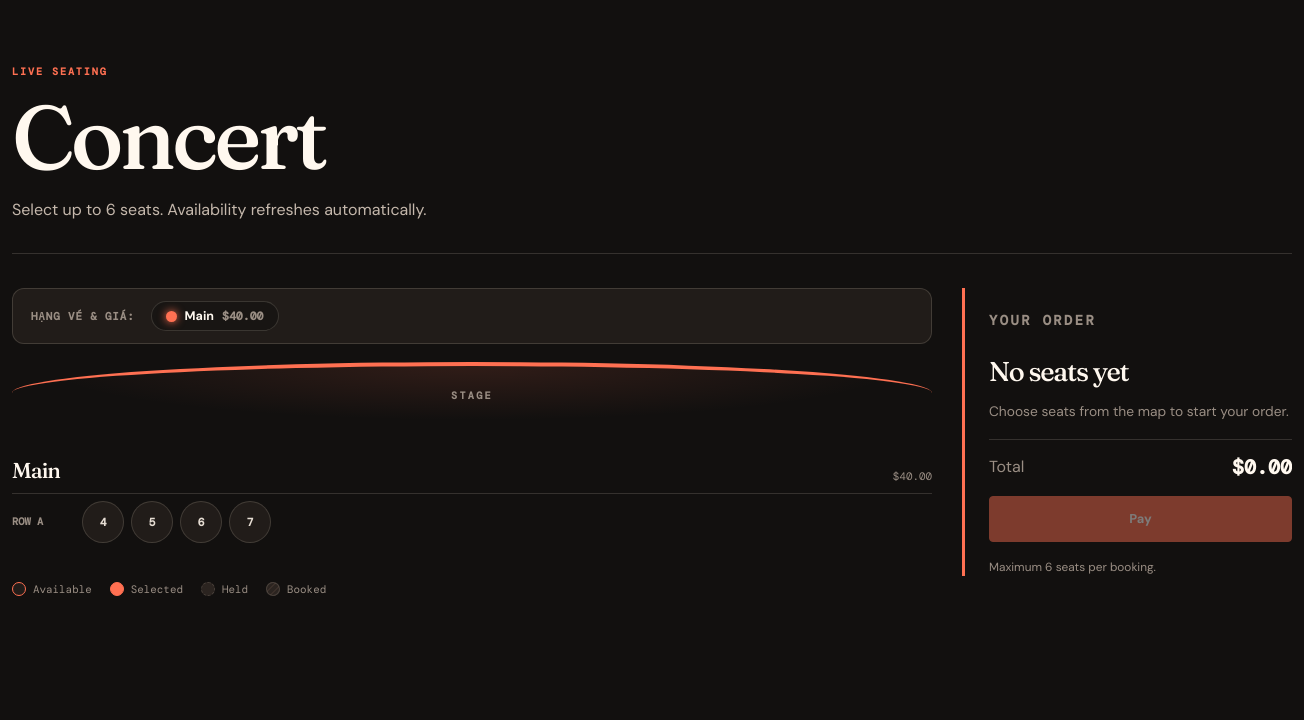
Test: SeatPage › removes only overlapping seats and keeps the remaining bill
expect the button named "Seat A4" is shown: met, box [82, 501, 124, 543]
Click the button named "Seat A5" at x=152, y=522, box [131, 501, 173, 543]
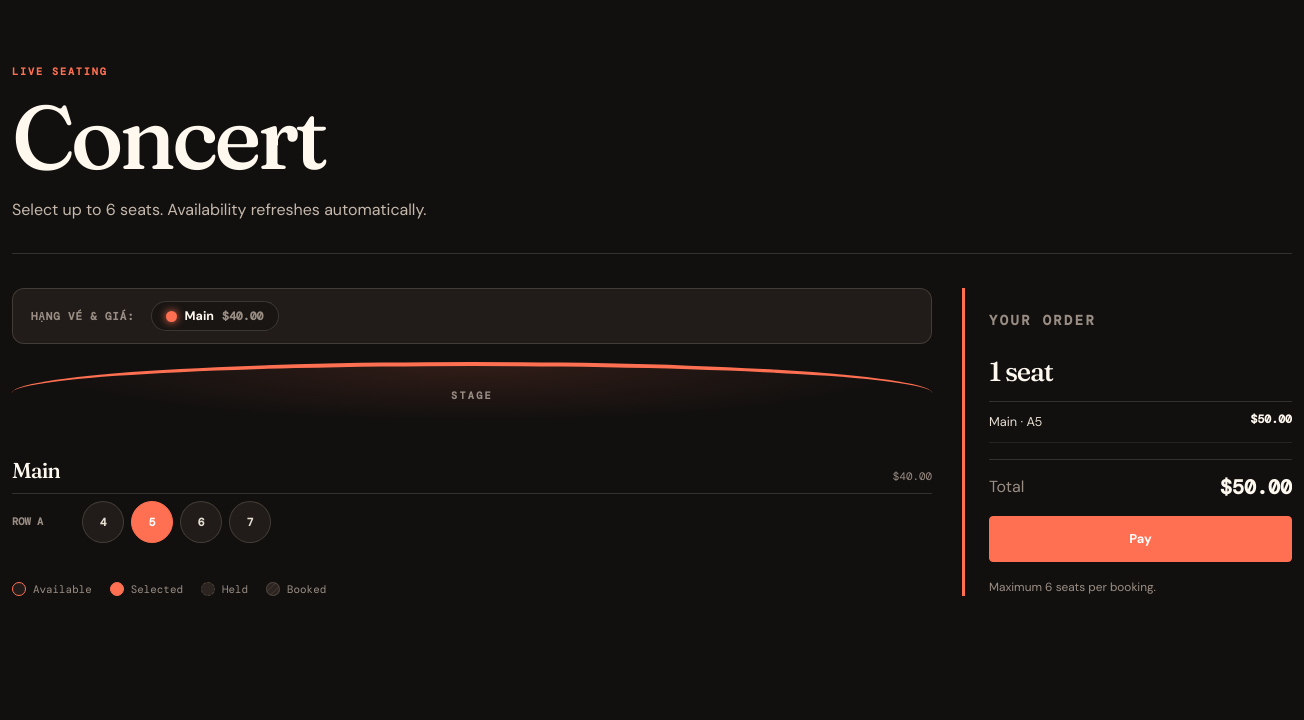
Click the button named "Seat A6" at x=201, y=522, box [180, 501, 222, 543]
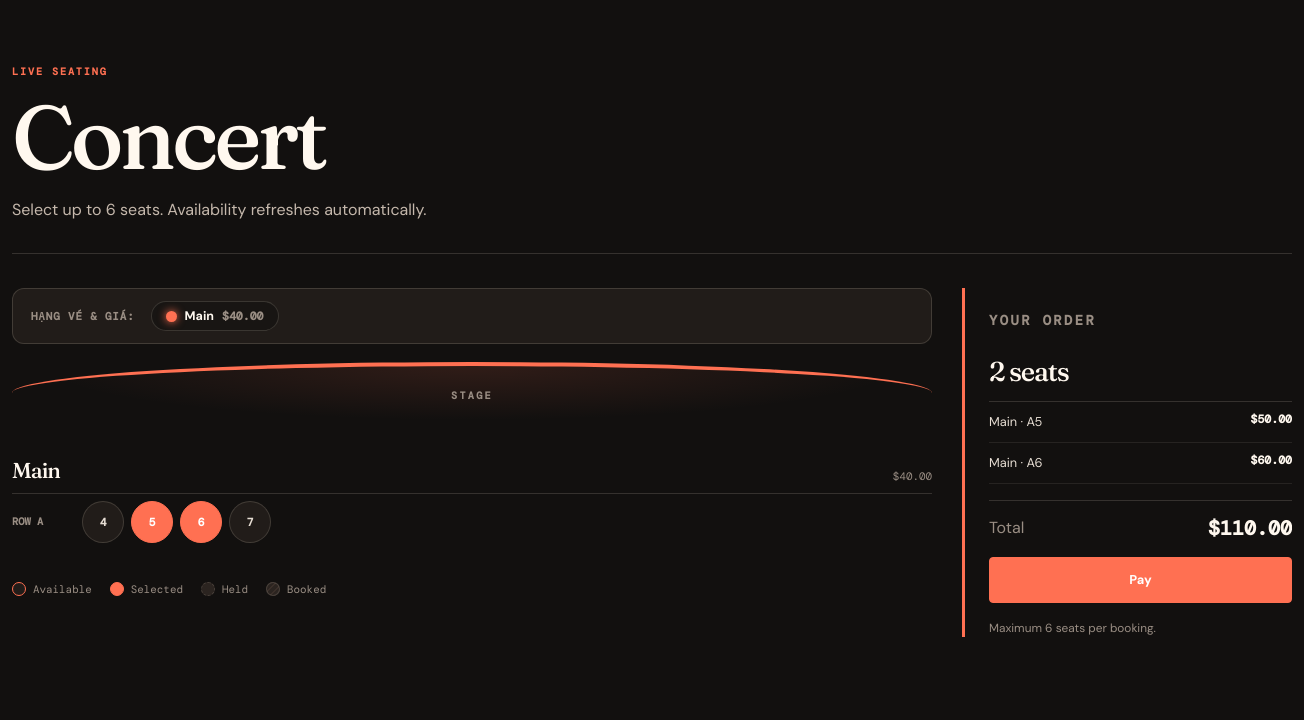
Click the button named "Seat A7" at x=250, y=522, box [229, 501, 271, 543]
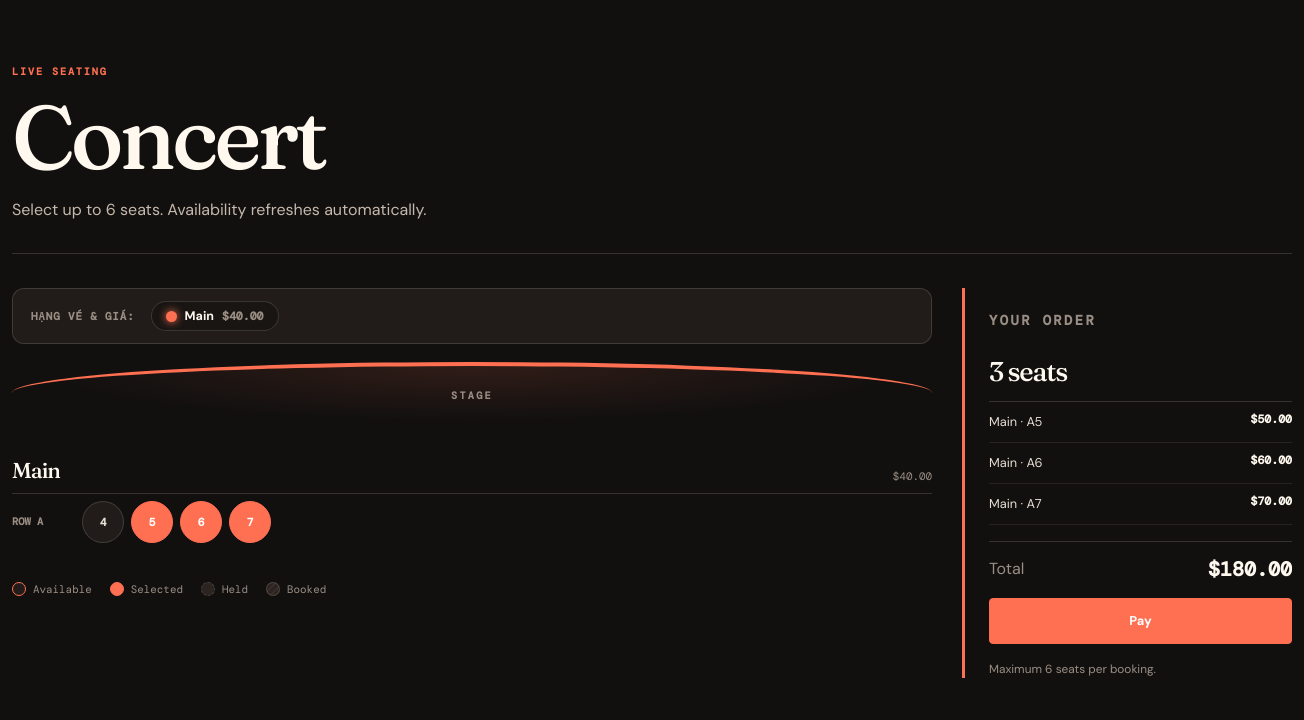
Click the button "Pay" at x=1140, y=621, box [989, 598, 1292, 644]
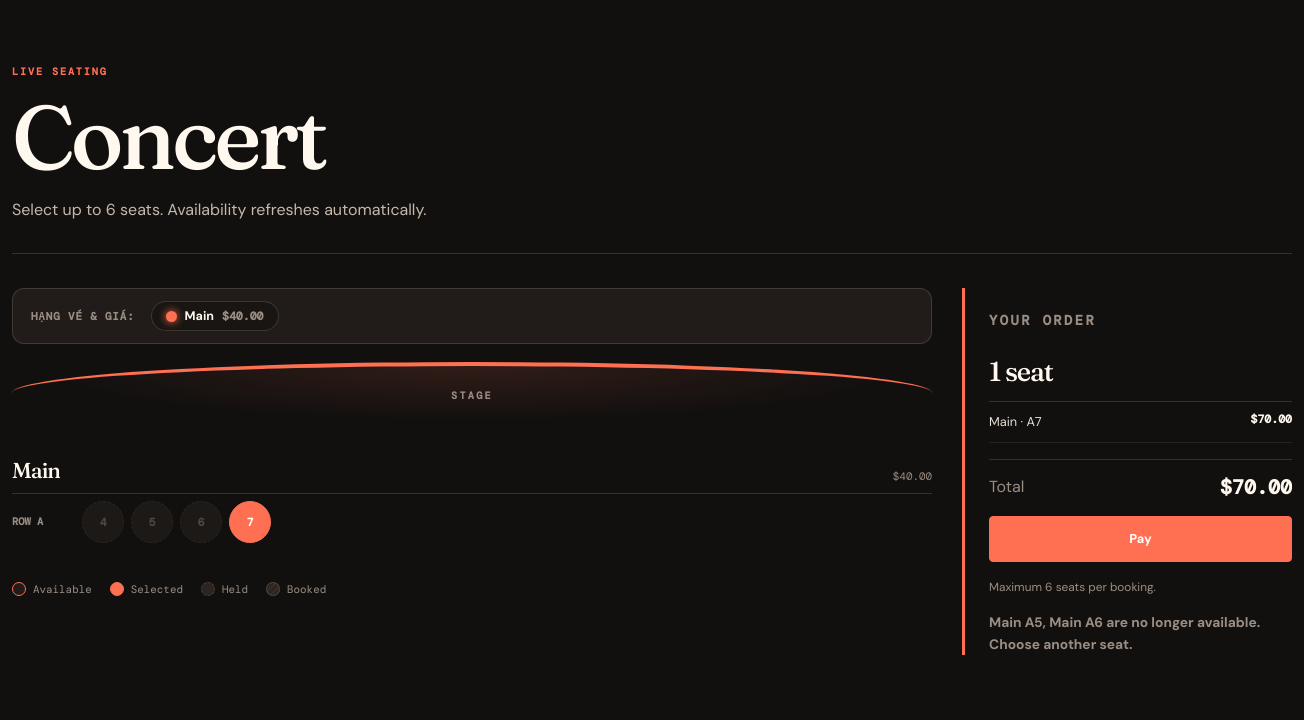
expect the message shows "Main A5, Main A6 are no longer available": met, box [989, 613, 1260, 653]
expect the button named "Seat A5" is disabled: met, box [131, 501, 173, 543]
expect the button named "Seat A6" is disabled: met, box [180, 501, 222, 543]
Click the button named "Seat A7" at x=250, y=522, box [229, 501, 271, 543]
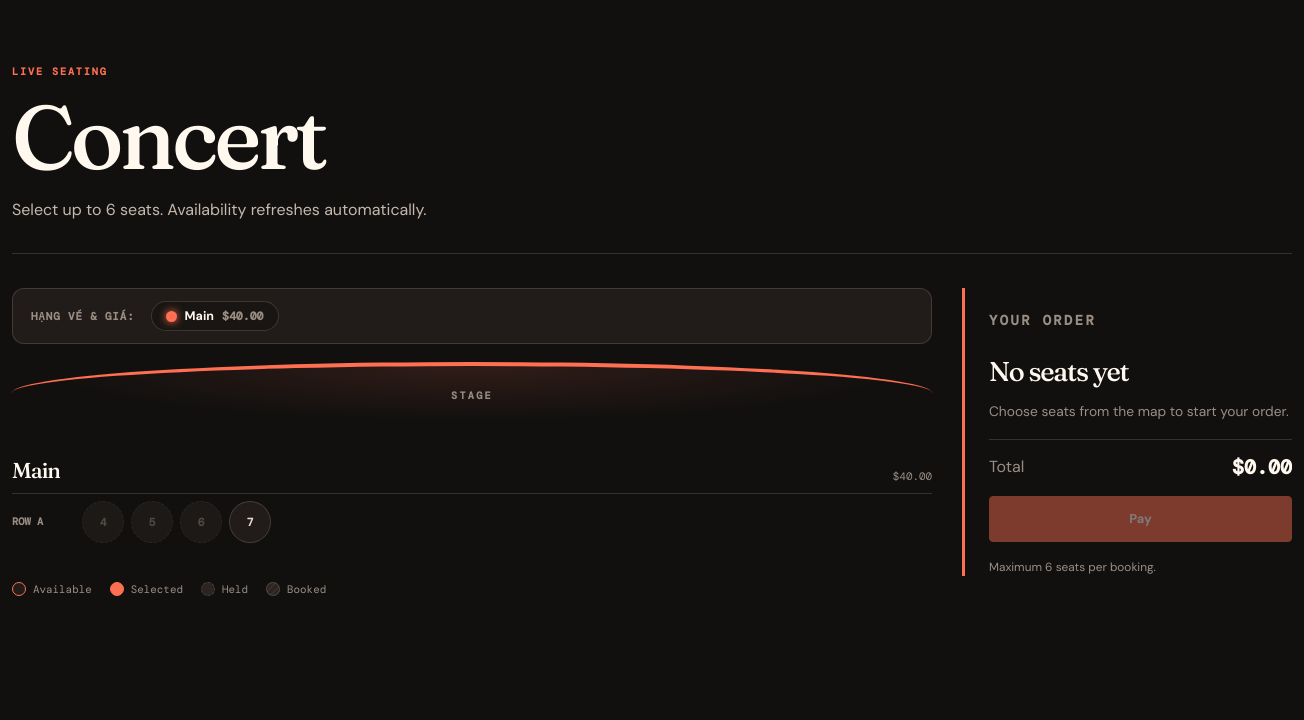
expect the message "Main A5, Main A6 are no longer available. Choose another seat." is gone: met
